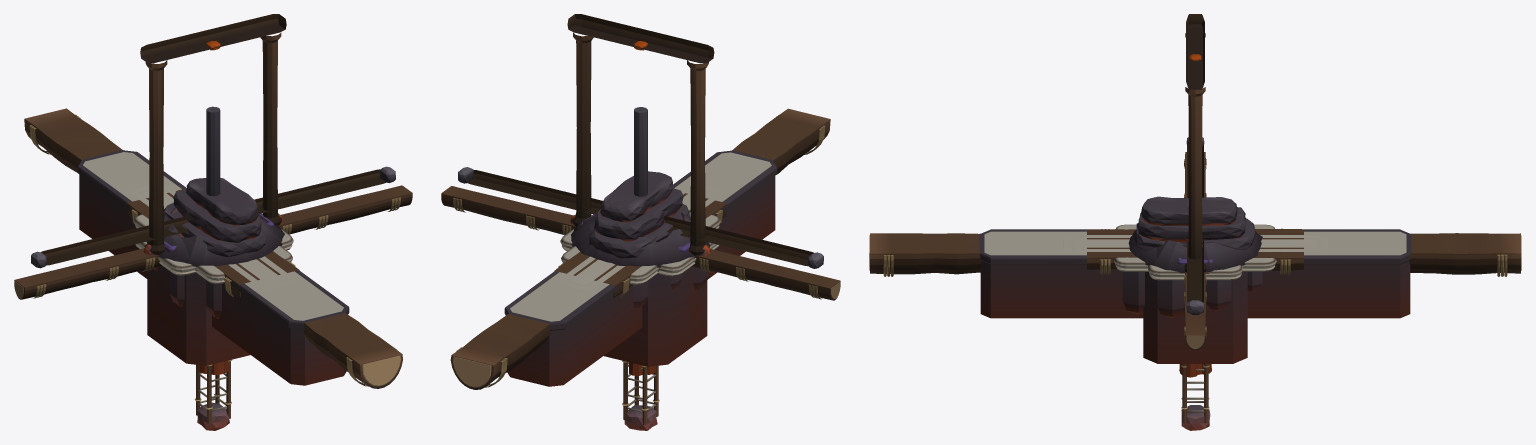
The model's file is volcano-2-CeZYbj5I.glb.
The picture shows the model from 3 angles, left to right: view 1: azimuth 30°, elevation 25°; view 2: azimuth 150°, elevation 25°; view 3: azimuth 270°, elevation 25°; orthographic projection. The views are drawn at different scales.
Visible parts, largest first — view 1: block_5x2x32_ledge#0, pressFrame_7.5x6x2.5x7#0, block_3.5x2x48_plank#0, spout_2x6#0, beam_32x1x1.5#0, block_8x2x8_ledge#0, mount_14.4#0, geyserVent_5.4#0, truss_14#0, block_3.5x2x20#0, press_2x6x6#0, beam_5x1.5x16_plank#0 (+4 smaller); view 2: block_5x2x32_ledge#0, pressFrame_7.5x6x2.5x7#0, block_3.5x2x48_plank#0, spout_2x6#0, block_8x2x8_ledge#0, beam_32x1x1.5#0, mount_14.4#0, geyserVent_5.4#0, truss_14#0, block_3.5x2x20#0, beam_5x1.5x16_plank#0, press_2x6x6#0 (+4 smaller); view 3: block_5x2x32_ledge#0, block_3.5x2x48_plank#0, block_8x2x8_ledge#0, spout_2x6#0, pressFrame_7.5x6x2.5x7#0, block_10x2x7#0, geyserVent_5.4#0, beam_5x1.5x16_plank#0, block_7x2x12#0, block_3.5x2x20#0, truss_14#0, mount_14.4#0 (+1 smaller).
Boxes of the visible parts, <box> form: block_5x2x32_ledge#0: <box>77,150,349,385</box>; pressFrame_7.5x6x2.5x7#0: <box>140,14,286,254</box>; block_3.5x2x48_plank#0: <box>24,108,402,388</box>; spout_2x6#0: <box>164,178,265,256</box>; beam_32x1x1.5#0: <box>14,185,412,299</box>; block_8x2x8_ledge#0: <box>147,269,250,365</box>; mount_14.4#0: <box>31,166,395,268</box>; geyserVent_5.4#0: <box>146,208,284,266</box>; truss_14#0: <box>194,359,231,430</box>; block_3.5x2x20#0: <box>130,183,296,289</box>; press_2x6x6#0: <box>206,106,220,196</box>; beam_5x1.5x16_plank#0: <box>127,188,299,297</box>; block_5x2x32_ledge#0: <box>504,150,777,386</box>; pressFrame_7.5x6x2.5x7#0: <box>567,14,714,255</box>; block_3.5x2x48_plank#0: <box>450,108,830,389</box>; spout_2x6#0: <box>589,171,690,258</box>; block_8x2x8_ledge#0: <box>604,269,707,366</box>; beam_32x1x1.5#0: <box>441,186,840,300</box>; mount_14.4#0: <box>458,167,823,268</box>; geyserVent_5.4#0: <box>571,212,709,267</box>; truss_14#0: <box>622,360,659,430</box>; block_3.5x2x20#0: <box>557,184,724,290</box>; beam_5x1.5x16_plank#0: <box>554,193,727,297</box>; press_2x6x6#0: <box>634,107,647,196</box>; block_5x2x32_ledge#0: <box>979,229,1411,318</box>; block_3.5x2x48_plank#0: <box>869,233,1521,276</box>; block_8x2x8_ledge#0: <box>1143,272,1247,363</box>; spout_2x6#0: <box>1134,196,1255,250</box>; pressFrame_7.5x6x2.5x7#0: <box>1184,14,1206,272</box>; block_10x2x7#0: <box>1148,265,1242,317</box>; geyserVent_5.4#0: <box>1128,230,1262,273</box>; beam_5x1.5x16_plank#0: <box>1087,228,1303,274</box>; block_7x2x12#0: <box>1114,224,1276,314</box>; block_3.5x2x20#0: <box>1063,235,1327,251</box>; truss_14#0: <box>1181,364,1210,430</box>; mount_14.4#0: <box>1186,137,1204,314</box>.
Size of the model in its own units: 32.12 by 31.14 by 48.12.
